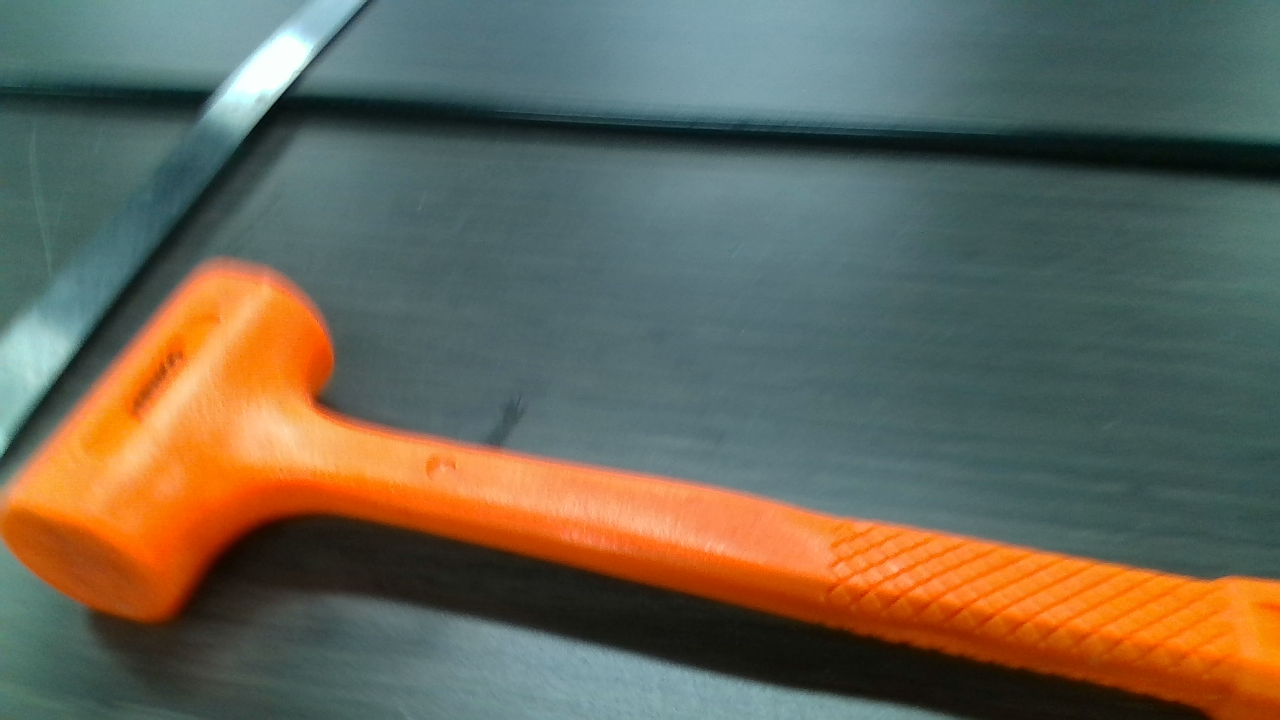Orange Hammer: (0, 261, 1280, 720)
